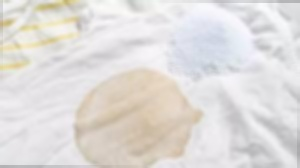coffee: (72, 68, 203, 168)
